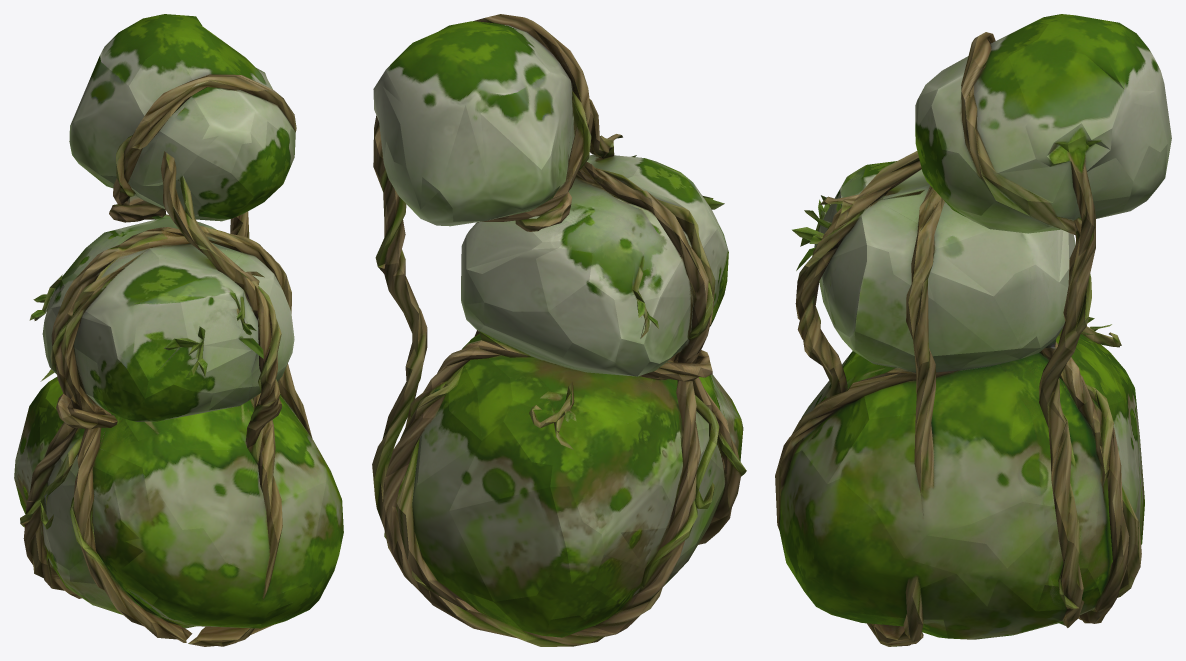
The picture shows the model from 3 angles, left to right: view 1: azimuth 30°, elevation 25°; view 2: azimuth 150°, elevation 25°; view 3: azimuth 270°, elevation 25°; orthographic projection. The views are drawn at different scales.
Size of the model in its own units: 0.9629 by 1.9 by 1.11.
1 material, 1 textured.
